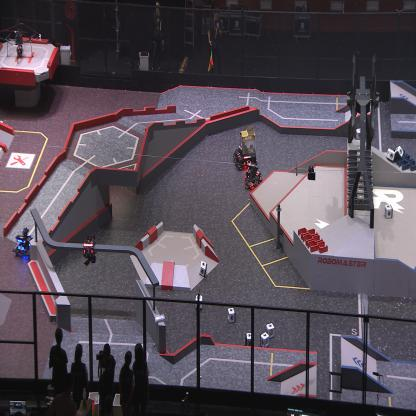car: (232, 124, 258, 171), (12, 225, 33, 261), (244, 160, 263, 191)
